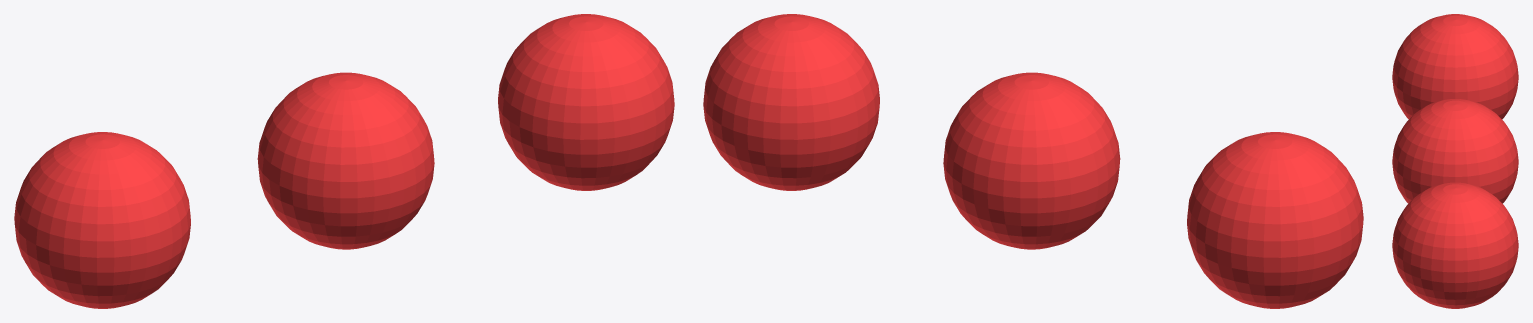
Rendered from sfere3R.obj.
3 views of the same model, side by side, from view 1: azimuth 30°, elevation 25°; view 2: azimuth 150°, elevation 25°; view 3: azimuth 270°, elevation 25° (orthographic). The views are drawn at different scales.
Visible parts, largest first — view 1: Sfera.001, Sfera, Sfera.002; view 2: Sfera.001, Sfera, Sfera.002; view 3: Sfera, Sfera.002, Sfera.001.
Part boxes in pixels (box(x1,y1,x2,y2)): Sfera.001: box(257, 72, 434, 249); Sfera: box(498, 14, 674, 190); Sfera.002: box(14, 132, 190, 308); Sfera.001: box(943, 72, 1120, 249); Sfera: box(703, 14, 879, 190); Sfera.002: box(1187, 132, 1363, 308); Sfera: box(1392, 182, 1518, 308); Sfera.002: box(1392, 14, 1518, 119); Sfera.001: box(1392, 99, 1518, 203).
Bounding box in the file's own units: 2.07 × 0.5 × 0.5.
Materials: 1 (1 with a texture image).
